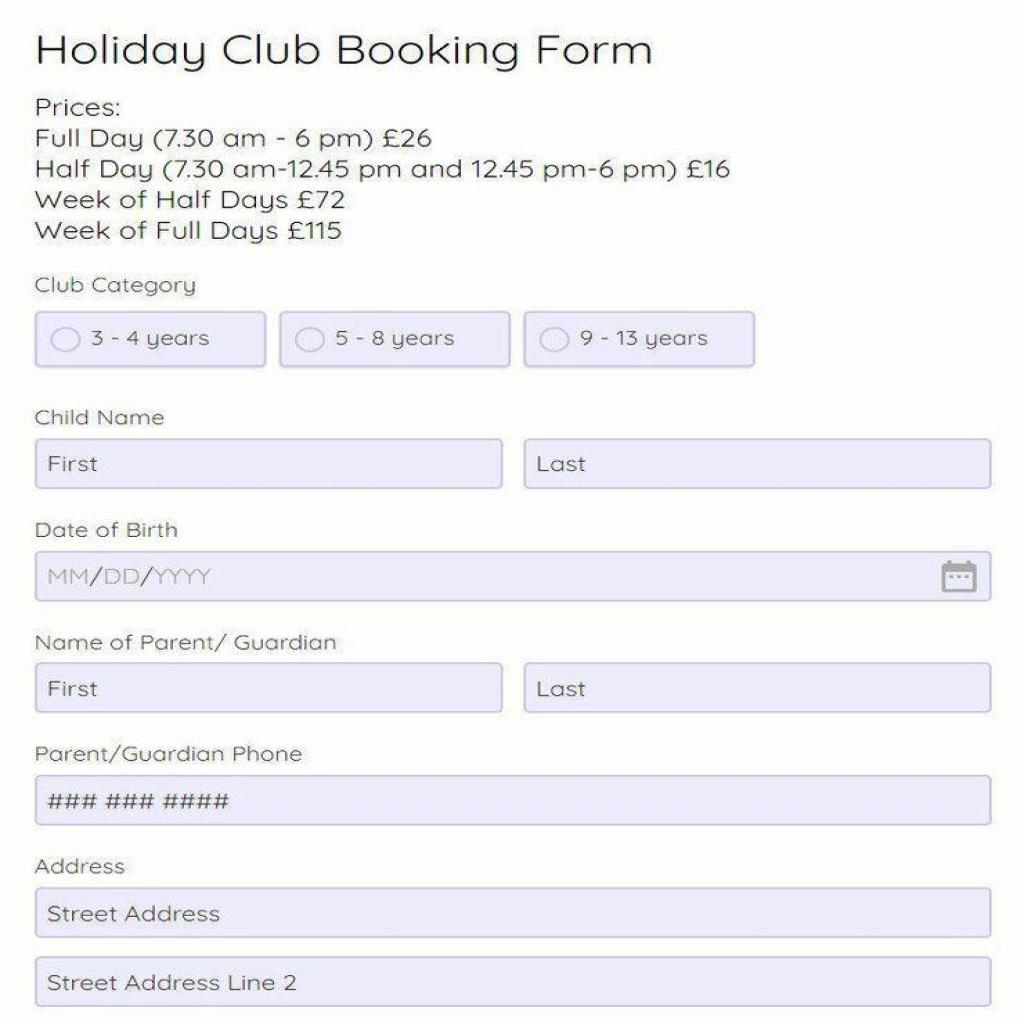input: (29, 952, 998, 1013), (30, 882, 998, 942), (29, 770, 995, 830), (35, 552, 992, 602), (522, 659, 996, 717), (33, 434, 505, 492), (522, 436, 994, 492), (32, 661, 506, 716)
label: (29, 630, 340, 658), (29, 742, 310, 767), (33, 268, 201, 302), (574, 323, 714, 353), (331, 326, 462, 354), (29, 404, 166, 430), (90, 325, 214, 353), (36, 520, 178, 544), (34, 850, 132, 876)
radio: (292, 324, 329, 354), (48, 326, 83, 356), (536, 325, 572, 353)
